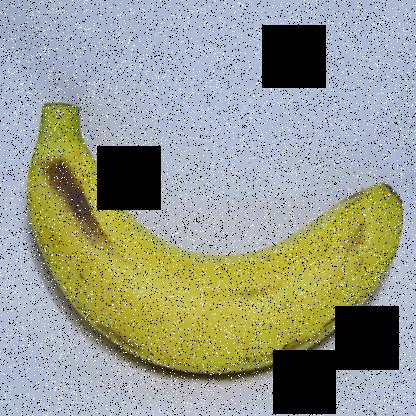freshripe: (20, 92, 404, 393)
